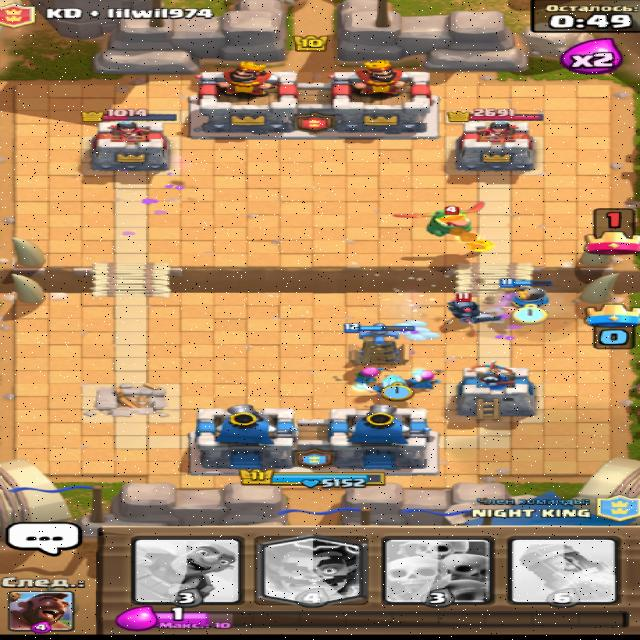Enemy-BabyDragon: (391, 201, 484, 236)
Enemy-MiniPEKKA: (444, 291, 502, 325)
Player-Archer: (408, 367, 441, 391), (352, 366, 391, 386)
Player-IceWizard: (354, 368, 422, 399)
Player-Knight: (497, 277, 551, 317)
Player-Tesla: (341, 321, 416, 365)
